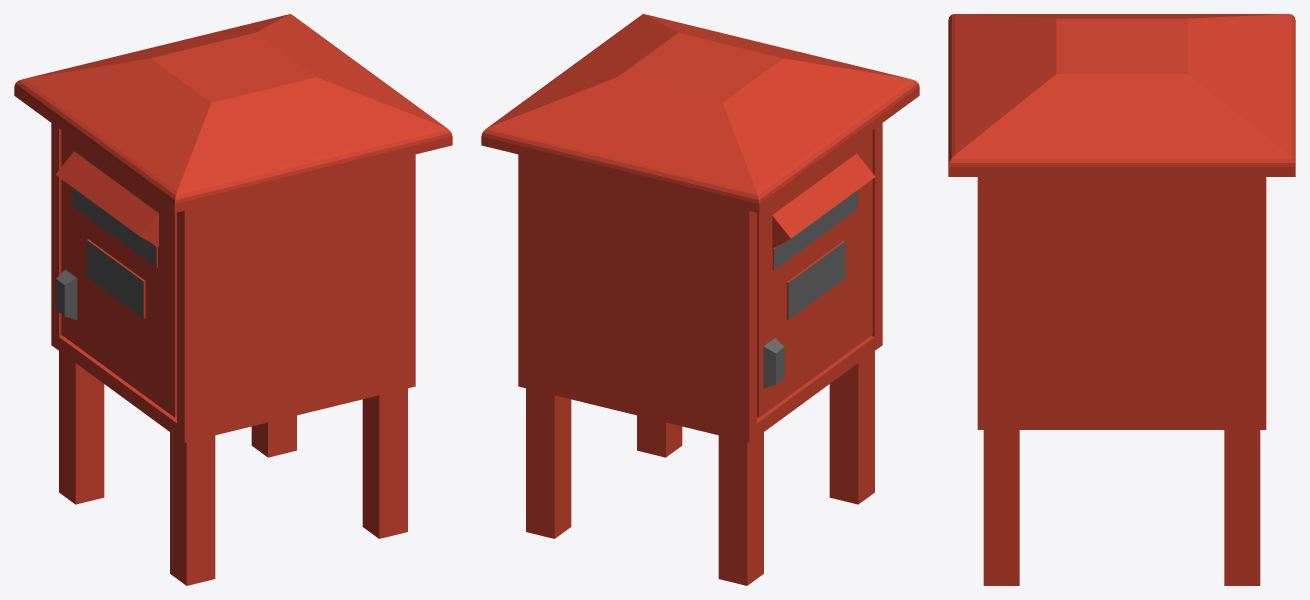
File: P_MAIL BOX.fbx
3 views of the same model, side by side, from view 1: azimuth 30°, elevation 25°; view 2: azimuth 150°, elevation 25°; view 3: azimuth 270°, elevation 25° (orthographic). The views are drawn at different scales.
Parts seen in each view (by area): view 1: Mail box pos; view 2: Mail box pos; view 3: Mail box pos.
Boxes of the visible parts, x1=… form: Mail box pos: x1=14, y1=14, x2=452, y2=585; Mail box pos: x1=481, y1=14, x2=919, y2=585; Mail box pos: x1=948, y1=14, x2=1295, y2=585.
Size of the model in its own units: 241 by 368 by 241.
